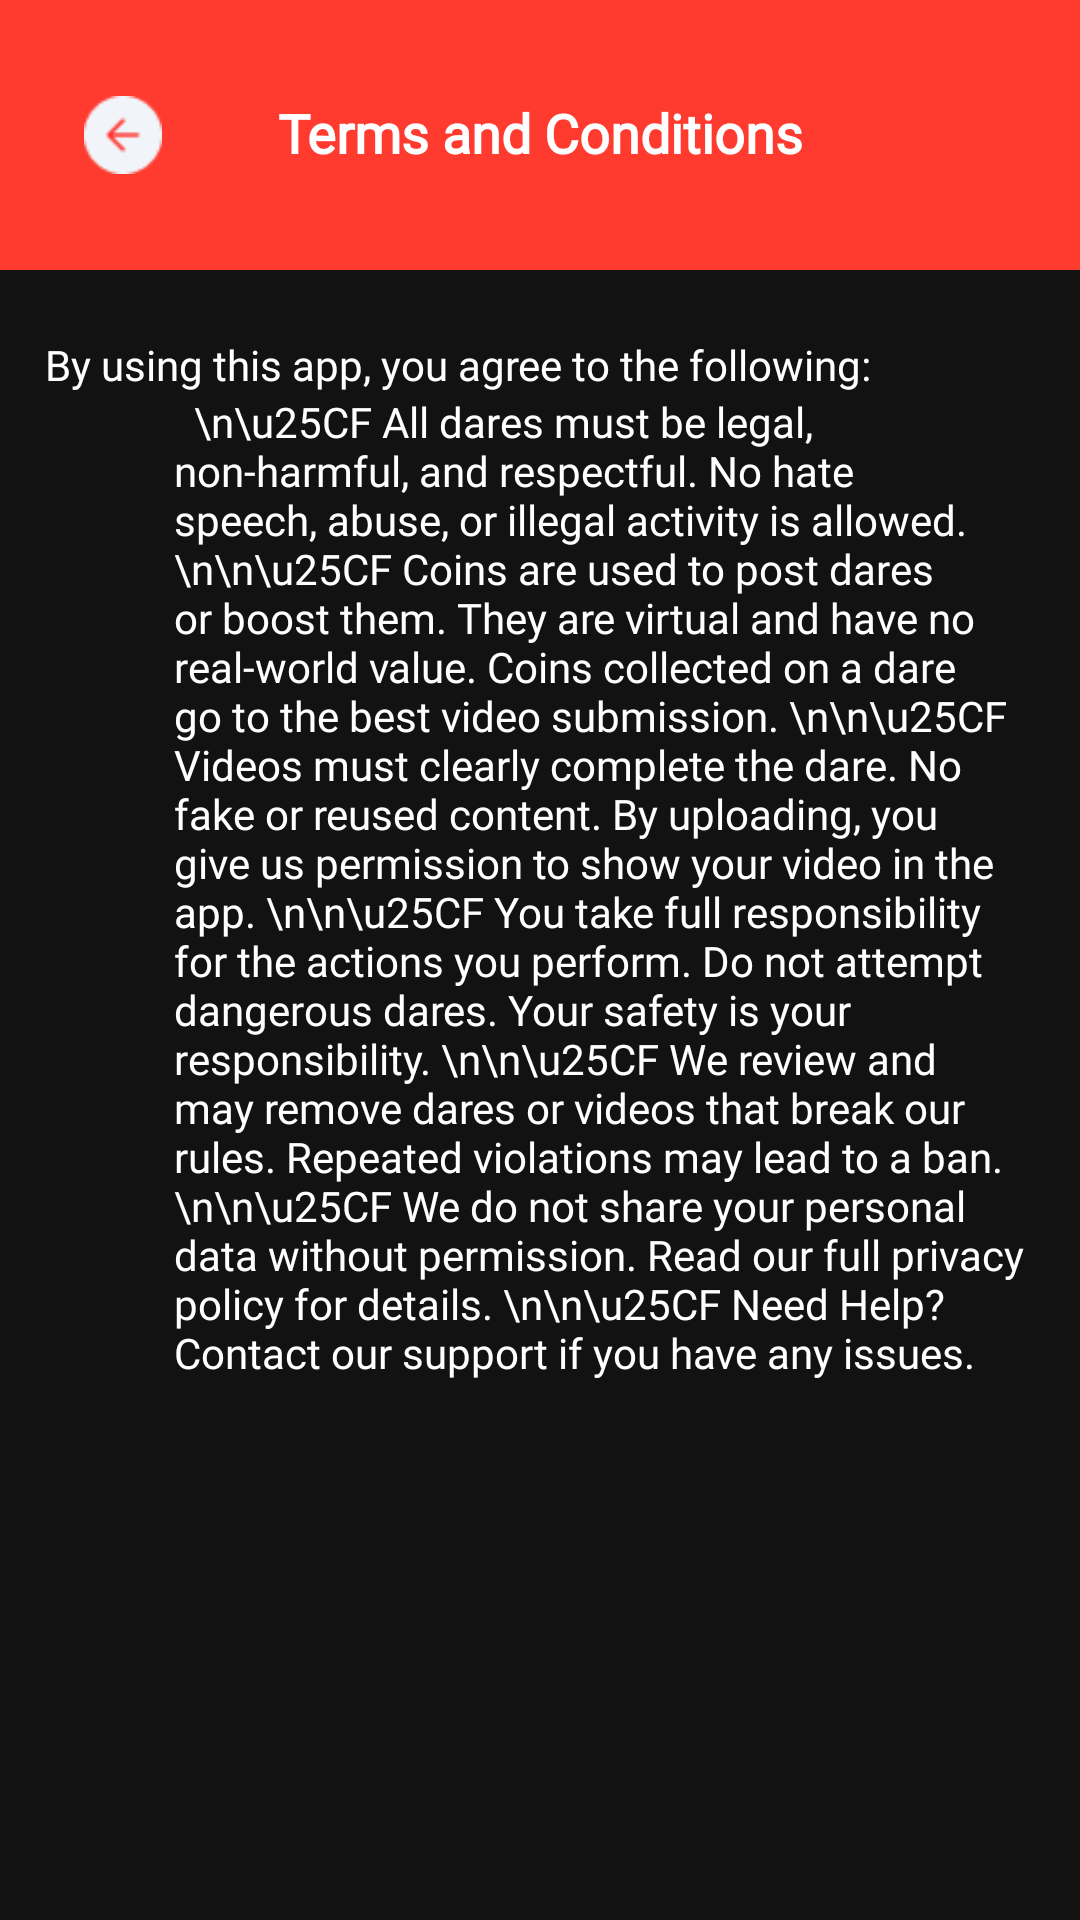

Icon bounding boxes for this 1080px×1920px phone screenshot, format [x1=x1, y1=y1, x2=x2, y2=y2]:
back: [x1=84, y1=96, x2=162, y2=174]
